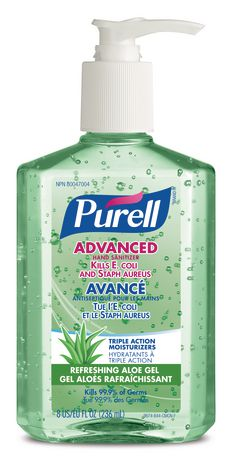Sanitizer: (8, 9, 223, 449)
